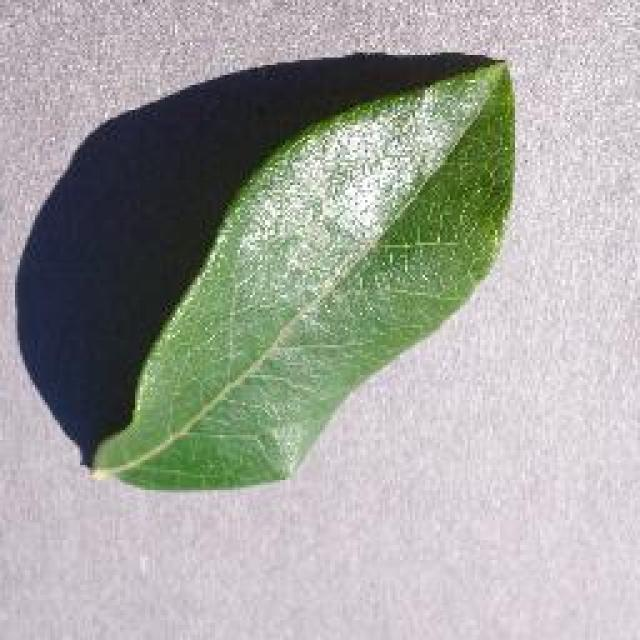healthy: (95, 65, 512, 488)
